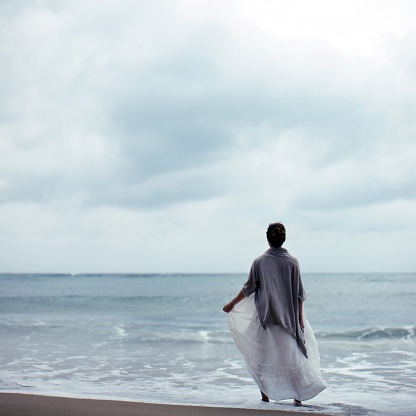em pe: (222, 219, 308, 406)
